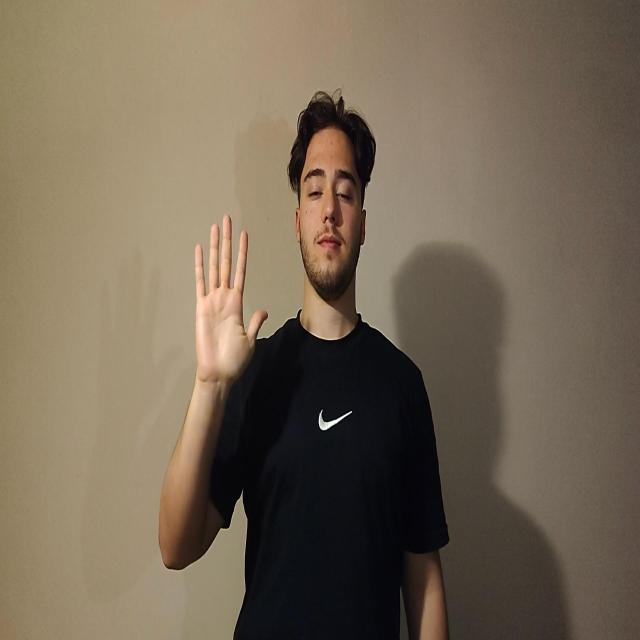hello: (194, 213, 268, 386)
